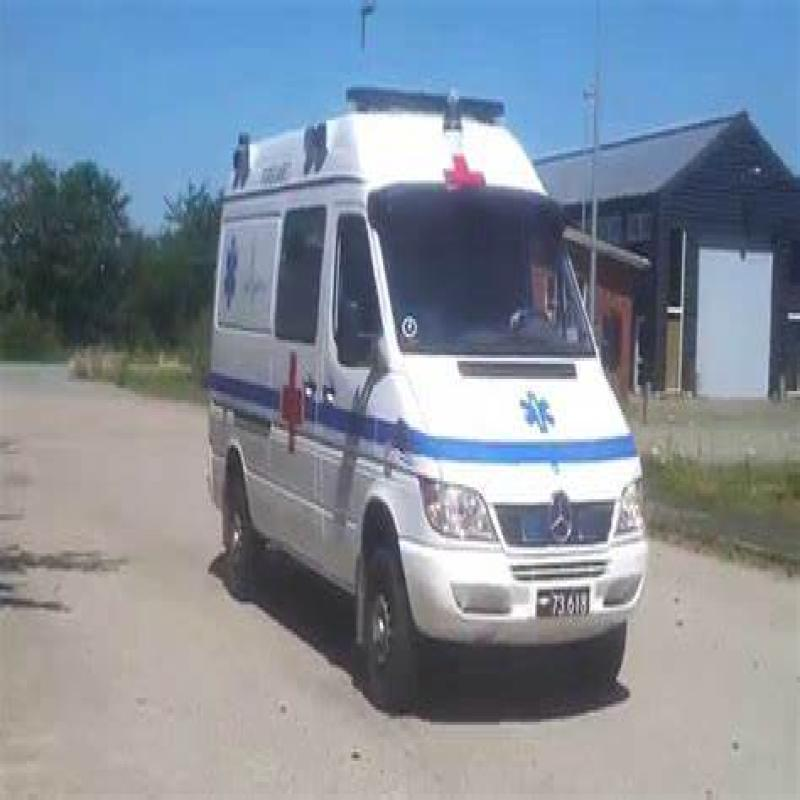AmbulanceSiren: (340, 71, 505, 139)
